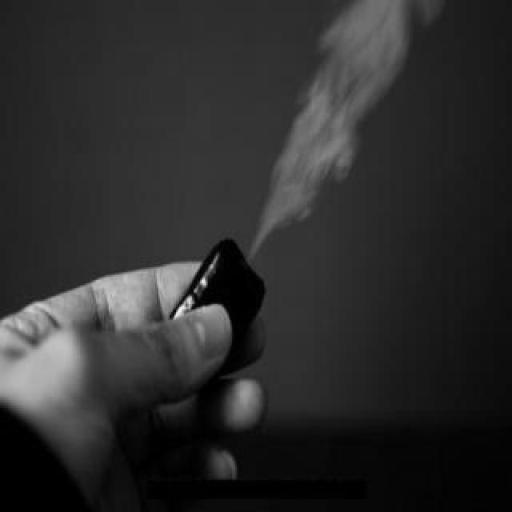smoke: (236, 0, 410, 261)
